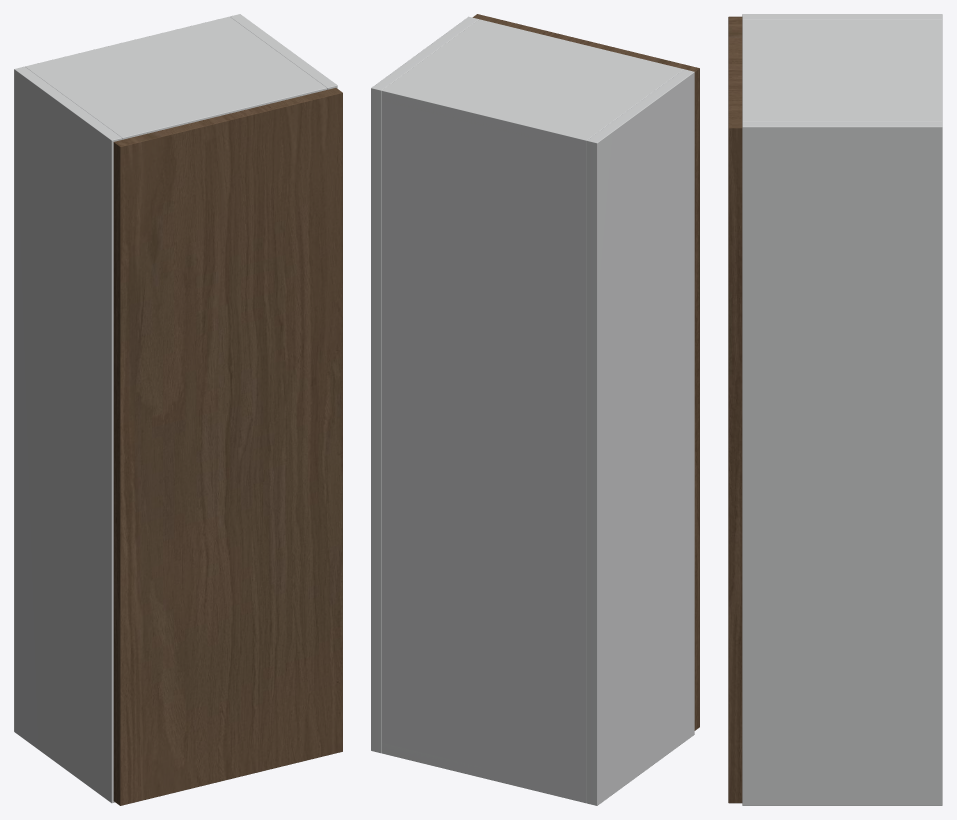
The model's file is oppein-pb-mso-w1542.glb.
3 renders of one model, left to right at view 1: azimuth 30°, elevation 25°; view 2: azimuth 150°, elevation 25°; view 3: azimuth 270°, elevation 25°, orthographic. The views are drawn at different scales.
Visible parts, largest first — view 1: Door, Cabinet side, Cabinet top, Cabinet side.001; view 2: Cabinet back, Cabinet side, Cabinet top, Cabinet side.001, Door, Cabinet bottom; view 3: Cabinet side.001, Cabinet top, Door, Cabinet side.
Boxes of the visible parts, x1,y1,x2,y2 form: Door: [113, 88, 342, 805]; Cabinet side: [14, 66, 122, 803]; Cabinet top: [25, 16, 326, 139]; Cabinet side.001: [230, 14, 337, 89]; Cabinet back: [382, 91, 586, 803]; Cabinet side: [586, 69, 694, 805]; Cabinet top: [382, 19, 683, 149]; Cabinet side.001: [371, 16, 478, 753]; Door: [472, 14, 699, 730]; Cabinet bottom: [382, 743, 586, 794]; Cabinet side.001: [742, 121, 942, 805]; Cabinet top: [742, 19, 942, 121]; Door: [728, 16, 742, 803]; Cabinet side: [742, 14, 942, 19].
Bounding box in the file's own units: 0.381 × 1.07 × 0.3048.
Materials: 2 (1 with a texture image).
